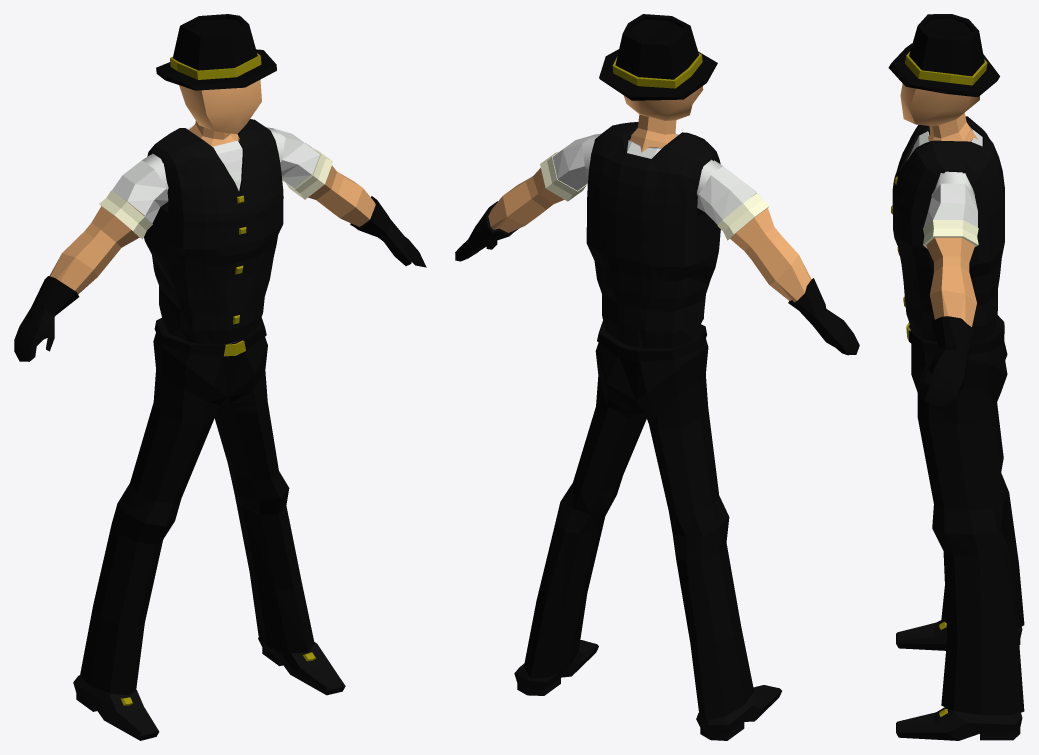
Rendered from Cowboy_2.FBX.
3 views of the same model, side by side, from view 1: azimuth 30°, elevation 25°; view 2: azimuth 150°, elevation 25°; view 3: azimuth 270°, elevation 25° (orthographic).
Visible parts, largest first — view 1: Trousers, Torso, Hat, Shirt, Boot Right, Right Arm, Head, Right Glove, Left Arm, Shirts cuffs, Left Glove, Belt (+1 smaller); view 2: Trousers, Torso, Hat, Shirt, Right Arm, Boot Right, Left Arm, Head, Right Glove, Shirts cuffs, Belt, Left Glove (+1 smaller); view 3: Trousers, Torso, Hat, Boot Right, Left Arm, Left Glove, Head, Shirt, Shirts cuffs, Hat Strap, Belt.
Part boxes in pixels (x1,y1,x2,y2): Trousers: (80, 318, 314, 695); Torso: (144, 119, 283, 344); Hat: (156, 14, 276, 90); Shirt: (112, 127, 319, 343); Boot Right: (73, 637, 345, 740); Right Arm: (49, 198, 144, 294); Head: (179, 79, 261, 146); Right Glove: (14, 276, 79, 361); Left Arm: (308, 165, 375, 226); Shirts cuffs: (99, 143, 332, 239); Left Glove: (350, 196, 426, 267); Belt: (154, 317, 266, 356); Trousers: (523, 324, 753, 719); Torso: (586, 122, 720, 348); Hat: (599, 14, 717, 100); Shirt: (552, 133, 757, 224); Right Arm: (730, 193, 811, 302); Boot Right: (514, 640, 781, 740); Left Arm: (488, 168, 564, 232); Head: (623, 86, 703, 152); Right Glove: (788, 278, 859, 355); Shirts cuffs: (540, 145, 769, 240); Belt: (597, 320, 706, 361); Left Glove: (455, 201, 518, 261); Trousers: (908, 315, 1024, 715); Torso: (892, 116, 1004, 342); Hat: (888, 14, 999, 97); Boot Right: (896, 620, 1022, 740); Left Arm: (926, 237, 976, 326); Left Glove: (919, 316, 974, 406); Head: (900, 84, 979, 141); Shirt: (907, 127, 982, 227); Shirts cuffs: (923, 220, 978, 248); Hat Strap: (905, 51, 987, 85); Belt: (909, 329, 1004, 353).
Size of the model in its own units: 94.28 by 151 by 28.14.
